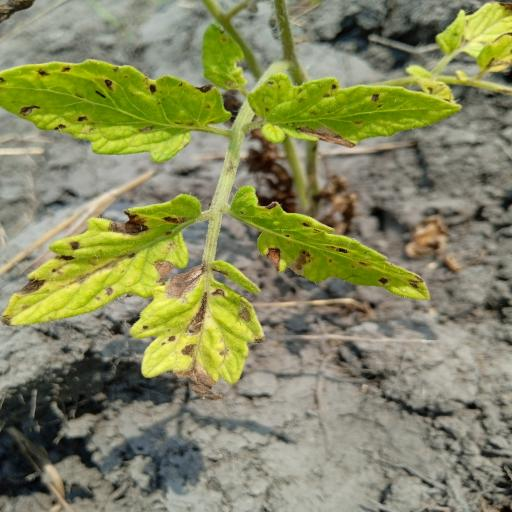Tomato_Brown_Spots: (0, 190, 208, 328), (0, 55, 244, 163), (227, 188, 434, 300), (128, 255, 268, 388), (250, 69, 464, 148)
